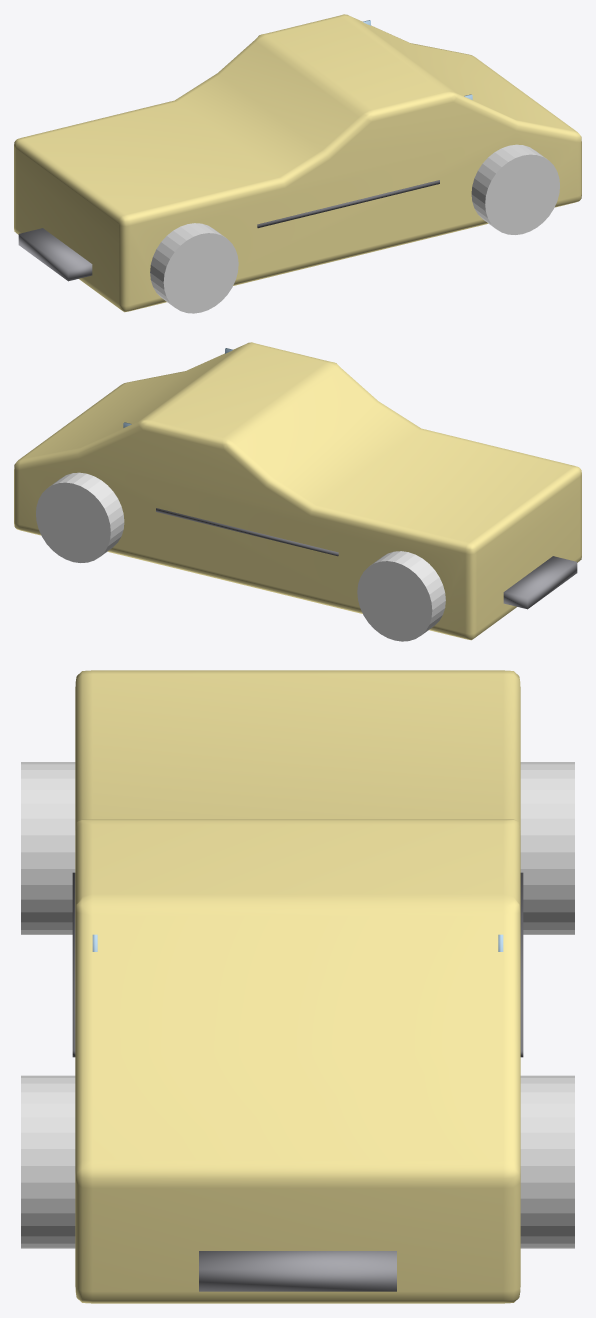
File: car_truck_lemon.glb
3 views of the same model, one above another, from view 1: azimuth 30°, elevation 25°; view 2: azimuth 150°, elevation 25°; view 3: azimuth 270°, elevation 25° (orthographic). The views are drawn at different scales.
Visible parts, largest first — view 1: body, well_rear_r, well_front_r, bumper_rear, trim_right; view 2: body, well_rear_l, well_front_l, bumper_rear, trim_left; view 3: body, well_front_l, well_front_r, well_rear_l, well_rear_r, bumper_front.
Boxes of the visible parts, bbox=[...] form: body: bbox=[14, 14, 581, 312]; well_rear_r: bbox=[150, 223, 238, 313]; well_front_r: bbox=[471, 144, 559, 234]; bumper_rear: bbox=[18, 228, 92, 281]; trim_right: bbox=[257, 180, 439, 228]; body: bbox=[14, 342, 581, 640]; well_rear_l: bbox=[357, 551, 445, 641]; well_front_l: bbox=[36, 472, 124, 562]; bumper_rear: bbox=[503, 556, 577, 609]; trim_left: bbox=[156, 508, 338, 556]; body: bbox=[75, 670, 520, 1303]; well_front_l: bbox=[520, 1075, 574, 1248]; well_front_r: bbox=[21, 1075, 75, 1248]; well_rear_l: bbox=[520, 762, 574, 934]; well_rear_r: bbox=[21, 762, 75, 934]; bumper_front: bbox=[199, 1251, 396, 1291].
Bounding box in the file's own units: 4.7 × 1.28 × 2.24.
